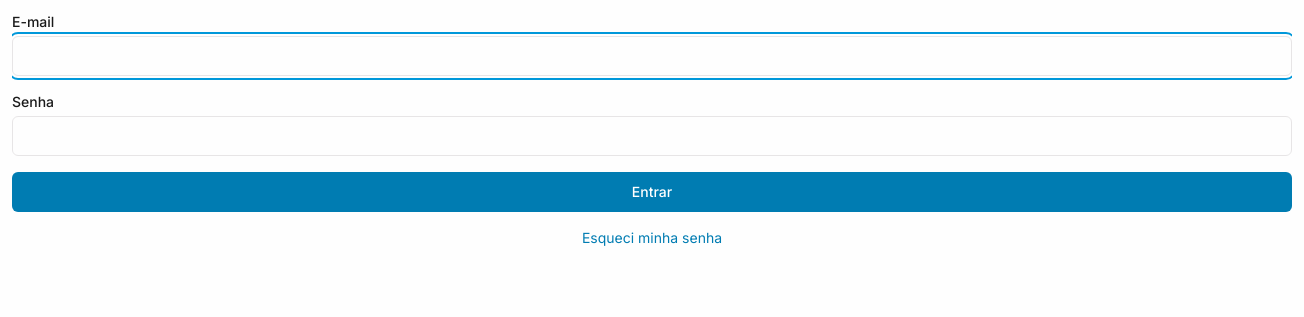
Test case: LoginForm › mostra a mensagem do servidor quando a conta não está liberada
Type "novo@ibpi.com.br" into the field labelled "E-mail" at (652, 56), box [12, 36, 1292, 76]
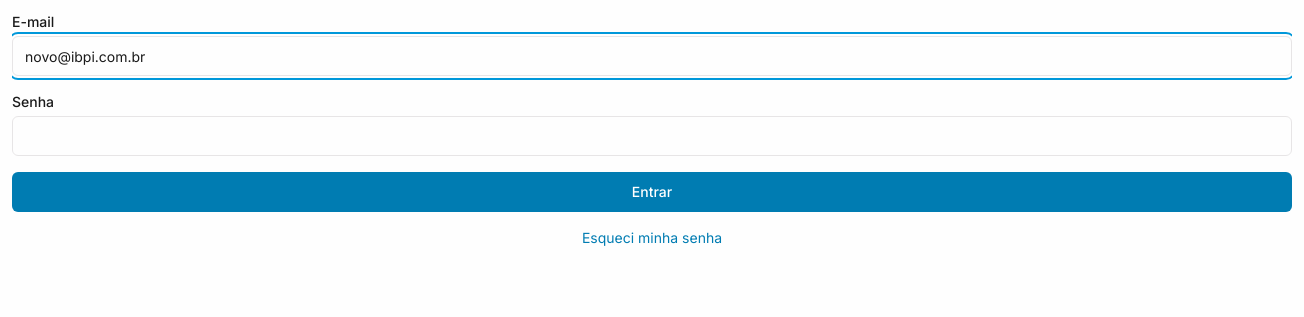
Type "senha-correta" into the password field labelled "Senha" at (652, 136), box [12, 116, 1292, 156]
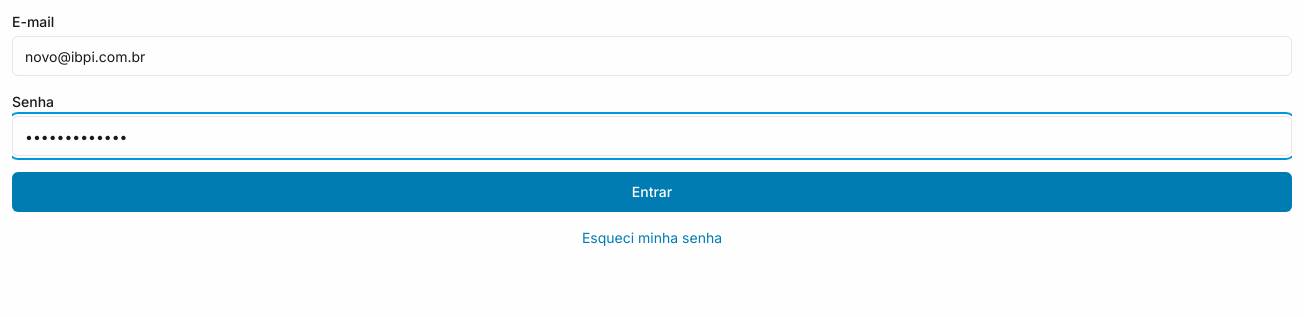
Click the button "Entrar" at (652, 192), box [12, 172, 1292, 212]
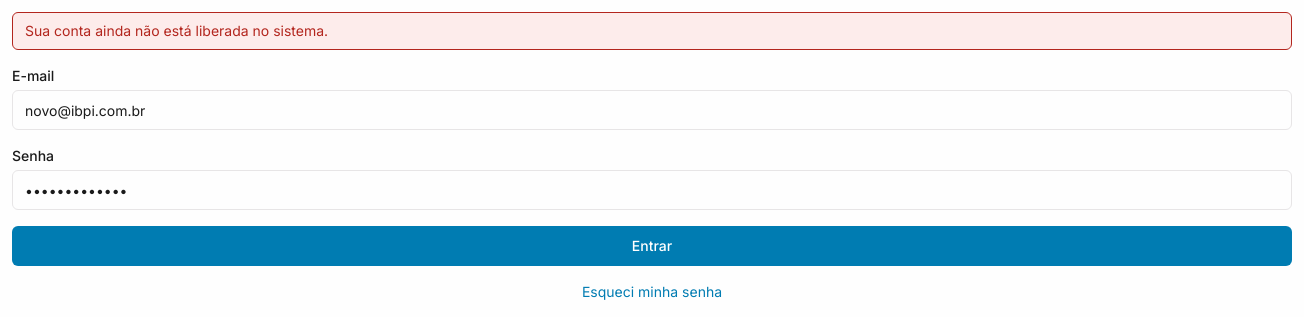
Expected: the message shows "não está liberada", [25, 22, 328, 39]
